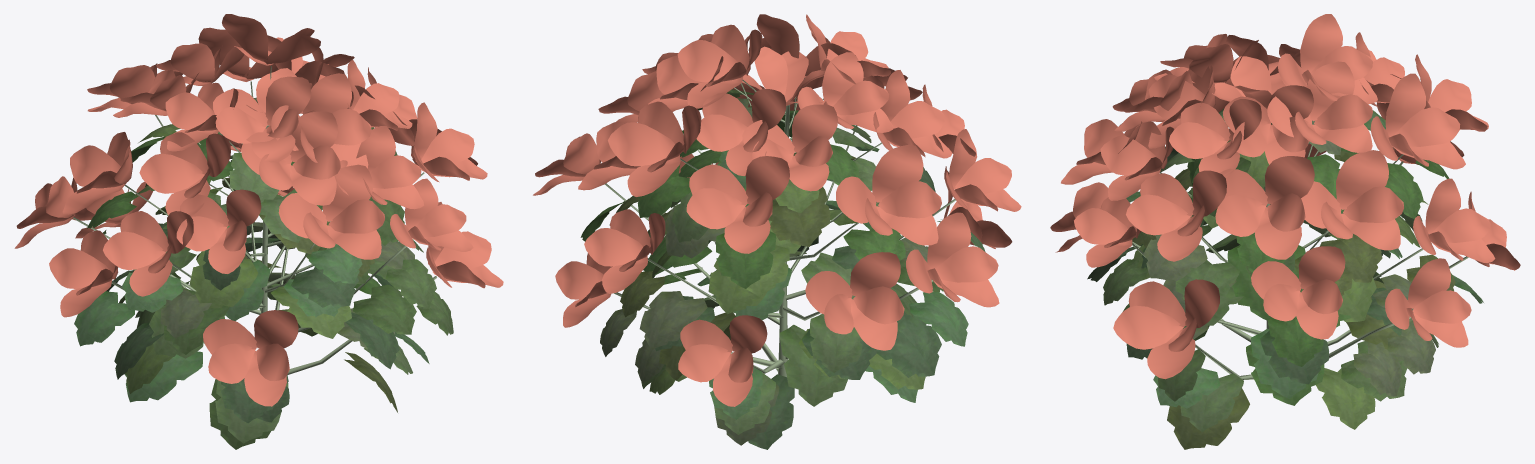
Rendered from flowers.gltf.
3 views of the same model, side by side, from view 1: azimuth 30°, elevation 25°; view 2: azimuth 150°, elevation 25°; view 3: azimuth 270°, elevation 25° (orthographic). The views are drawn at different scales.
Visible parts, largest first — view 1: Flowers; view 2: Flowers; view 3: Flowers.
Part boxes in pixels (x1,y1,x2,y2): Flowers: [14, 14, 503, 449]; Flowers: [533, 14, 1021, 449]; Flowers: [1050, 14, 1520, 449].
Size of the model in its own units: 11.06 by 9.41 by 10.4.
Materials: 11 (9 with a texture image).
